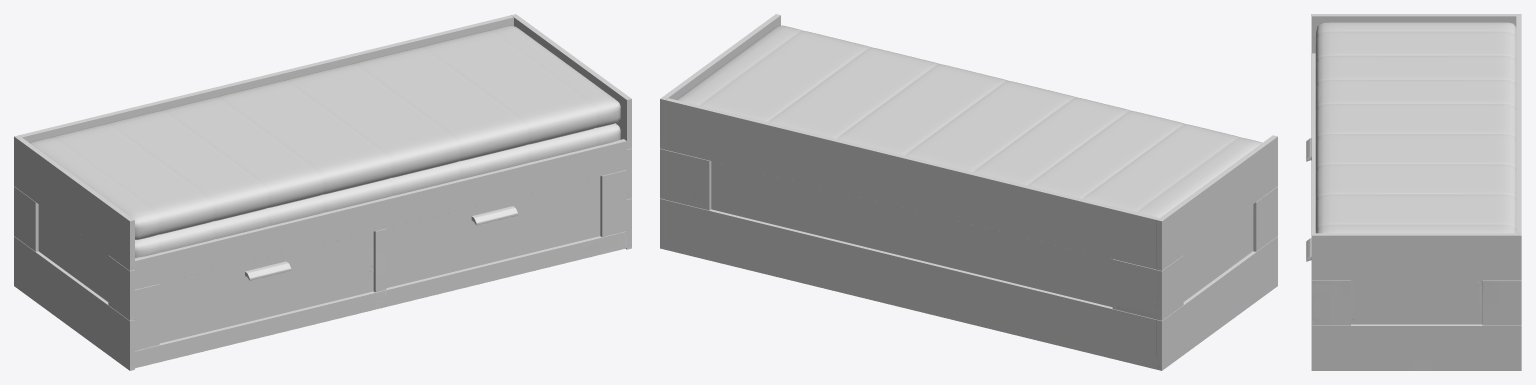
The model's file is bed_single.glb.
3 renders of one model, left to right at view 1: azimuth 30°, elevation 25°; view 2: azimuth 150°, elevation 25°; view 3: azimuth 270°, elevation 25°, orthographic. The views are drawn at different scales.
Visible parts, largest first — view 1: Plane.005, Matress, Matress_2; view 2: Plane.005, Matress; view 3: Matress, Plane.005.
Boxes of the visible parts, left/top/right/bottom form: Plane.005: left=14, top=14, right=631, bottom=370; Matress: left=29, top=25, right=620, bottom=239; Matress_2: left=135, top=123, right=620, bottom=258; Plane.005: left=660, top=14, right=1277, bottom=370; Matress: left=676, top=25, right=1262, bottom=217; Matress: left=1315, top=22, right=1516, bottom=233; Plane.005: left=1306, top=14, right=1521, bottom=370.
Bounding box in the file's own units: 2 × 0.5699 × 0.8211.
3 materials, 3 textured.
